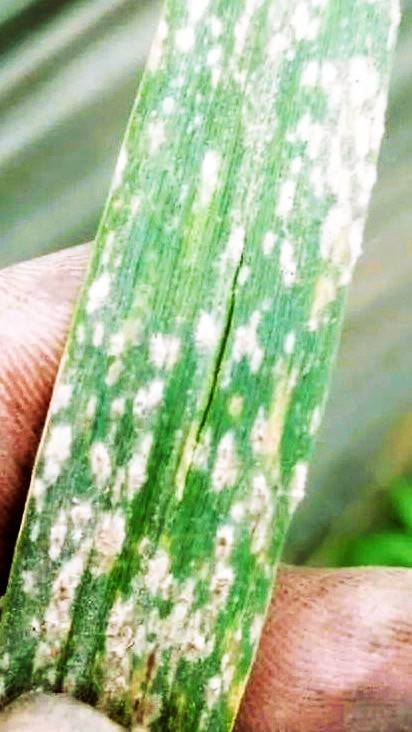Powdery Mildew: (45, 104, 406, 676)
